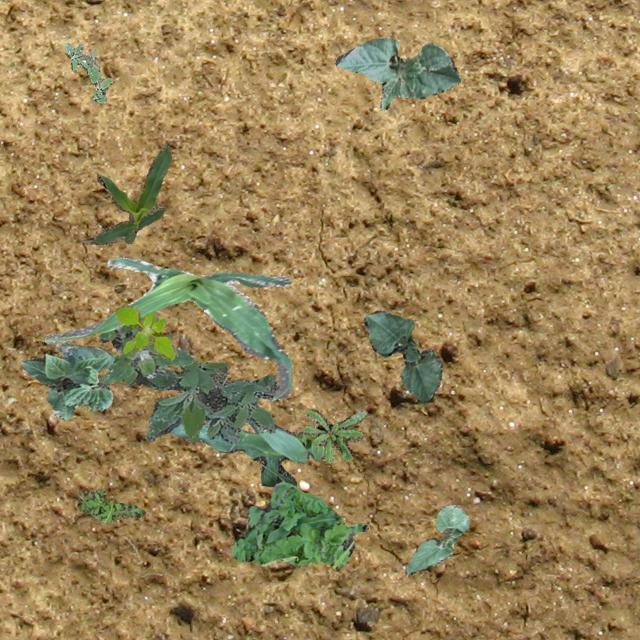crop: (43, 256, 290, 399), (168, 420, 324, 486), (80, 144, 170, 244), (334, 36, 459, 108), (362, 309, 440, 402), (20, 342, 114, 418), (404, 504, 468, 574)
weed: (120, 360, 276, 442), (230, 482, 368, 568), (98, 324, 192, 386), (114, 304, 176, 360), (302, 408, 366, 462), (64, 42, 112, 102), (76, 488, 144, 522)
